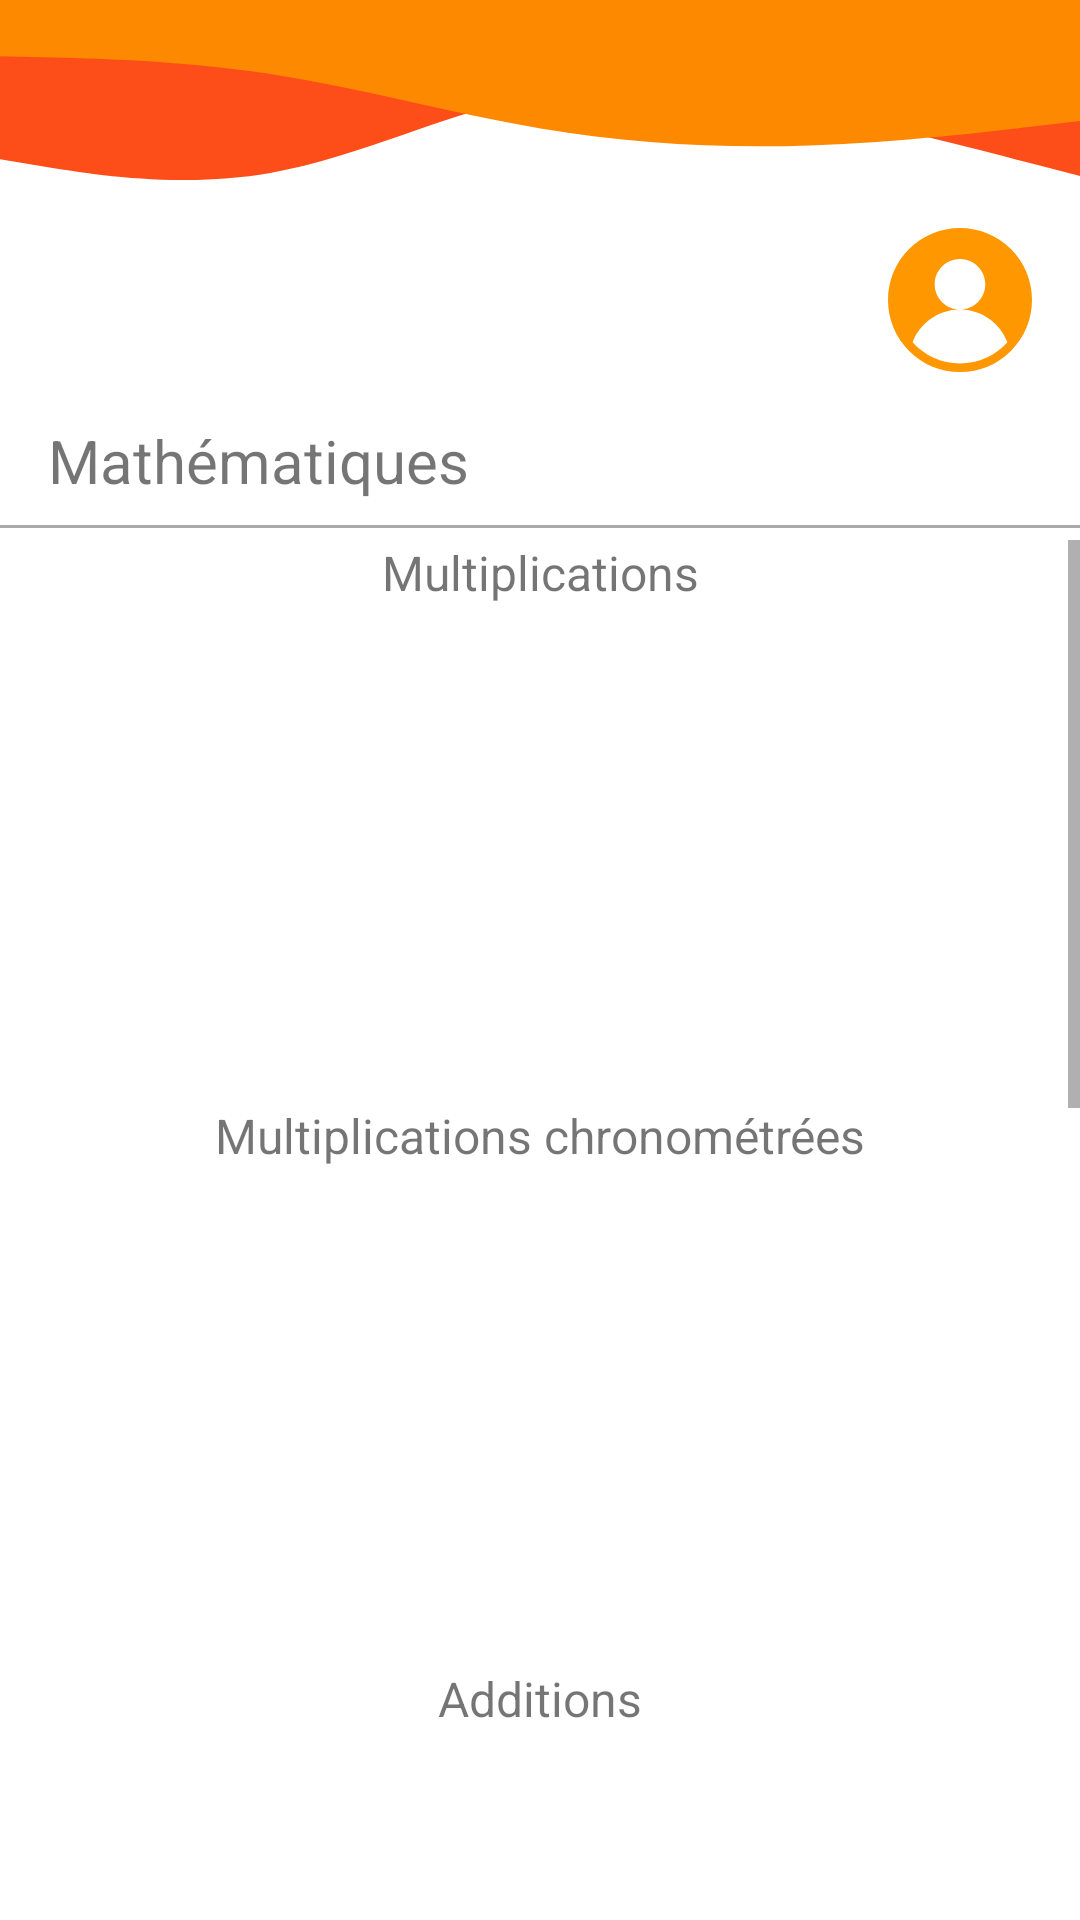

Icon click points for this 1080 × 1920 phone screenshot, format point (x, y):
user: point (960, 300)
